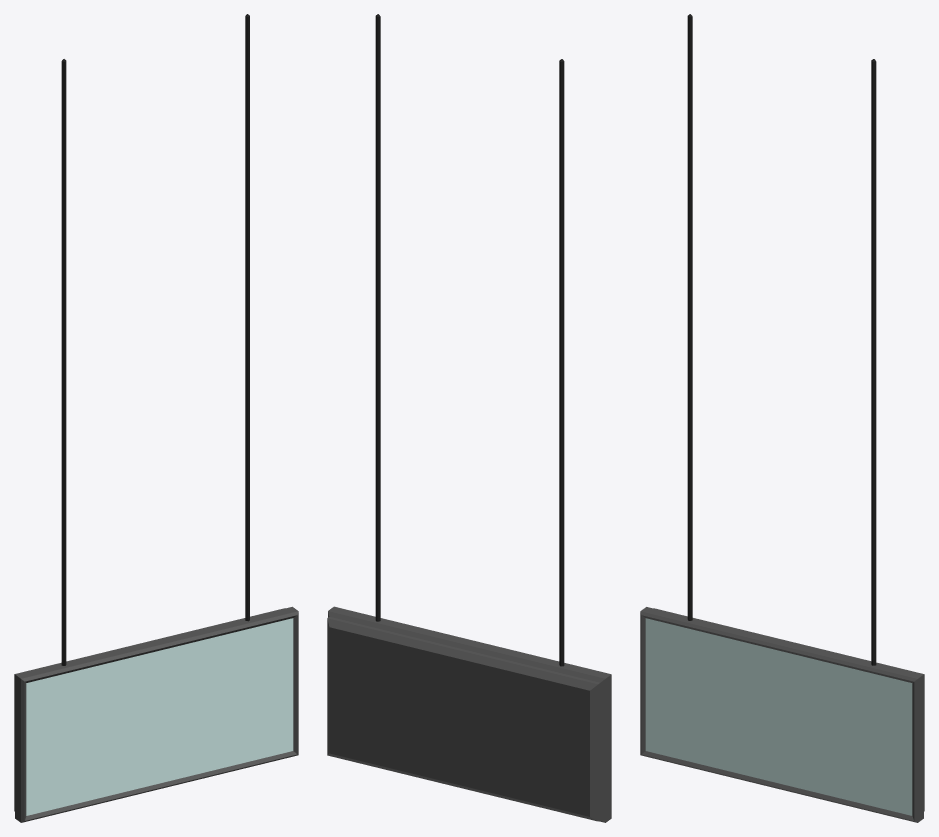
3 views of the same model, side by side, from view 1: azimuth 30°, elevation 25°; view 2: azimuth 150°, elevation 25°; view 3: azimuth 330°, elevation 25° (orthographic).
Visible parts, largest first — view 1: Cube; view 2: Cube; view 3: Cube.
Boxes of the visible parts, x1,y1,x2,y2 form: Cube: [14, 14, 298, 822]; Cube: [327, 14, 611, 822]; Cube: [640, 14, 924, 822].
Bounding box in the file's own units: 604 × 1561 × 54.46.
